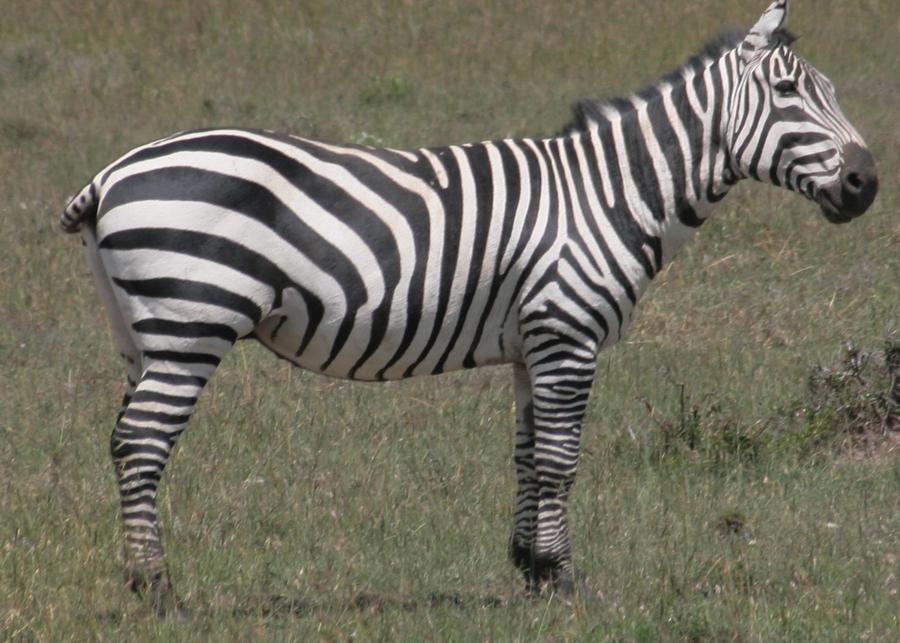zebra_plains: (90, 80, 653, 411)
